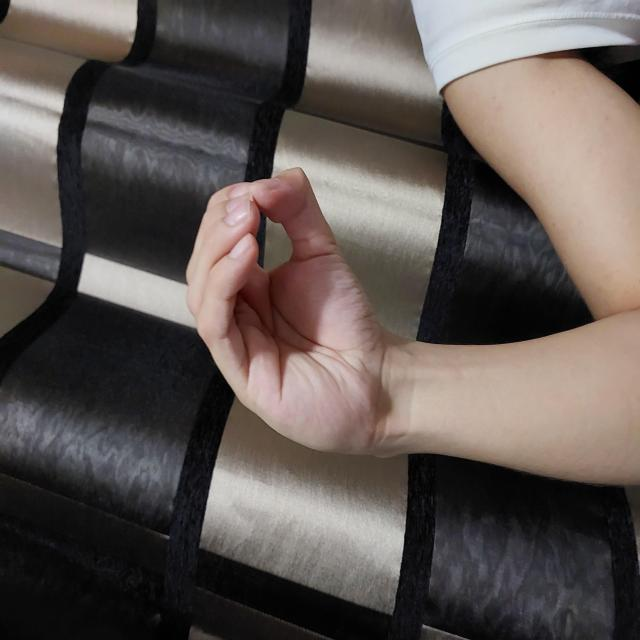O: (185, 182, 479, 386)
